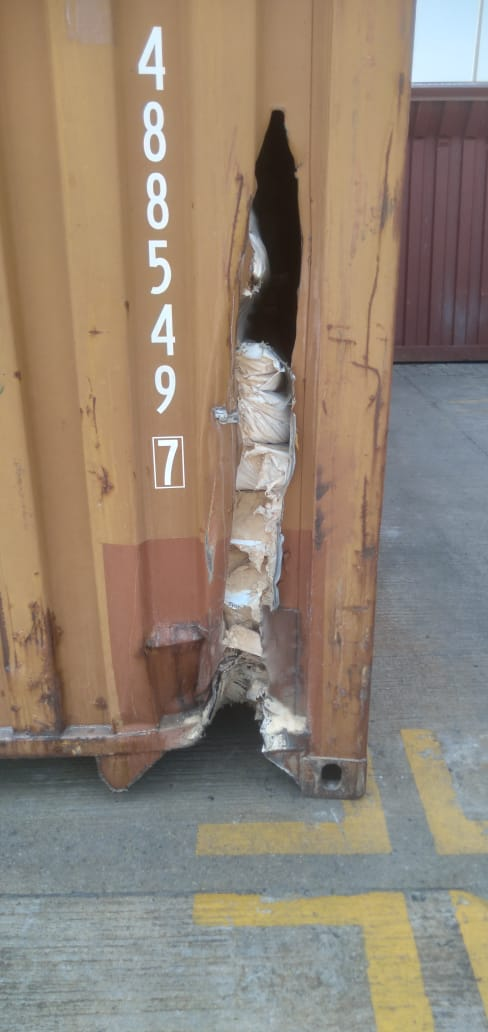severe: (132, 92, 344, 732)
